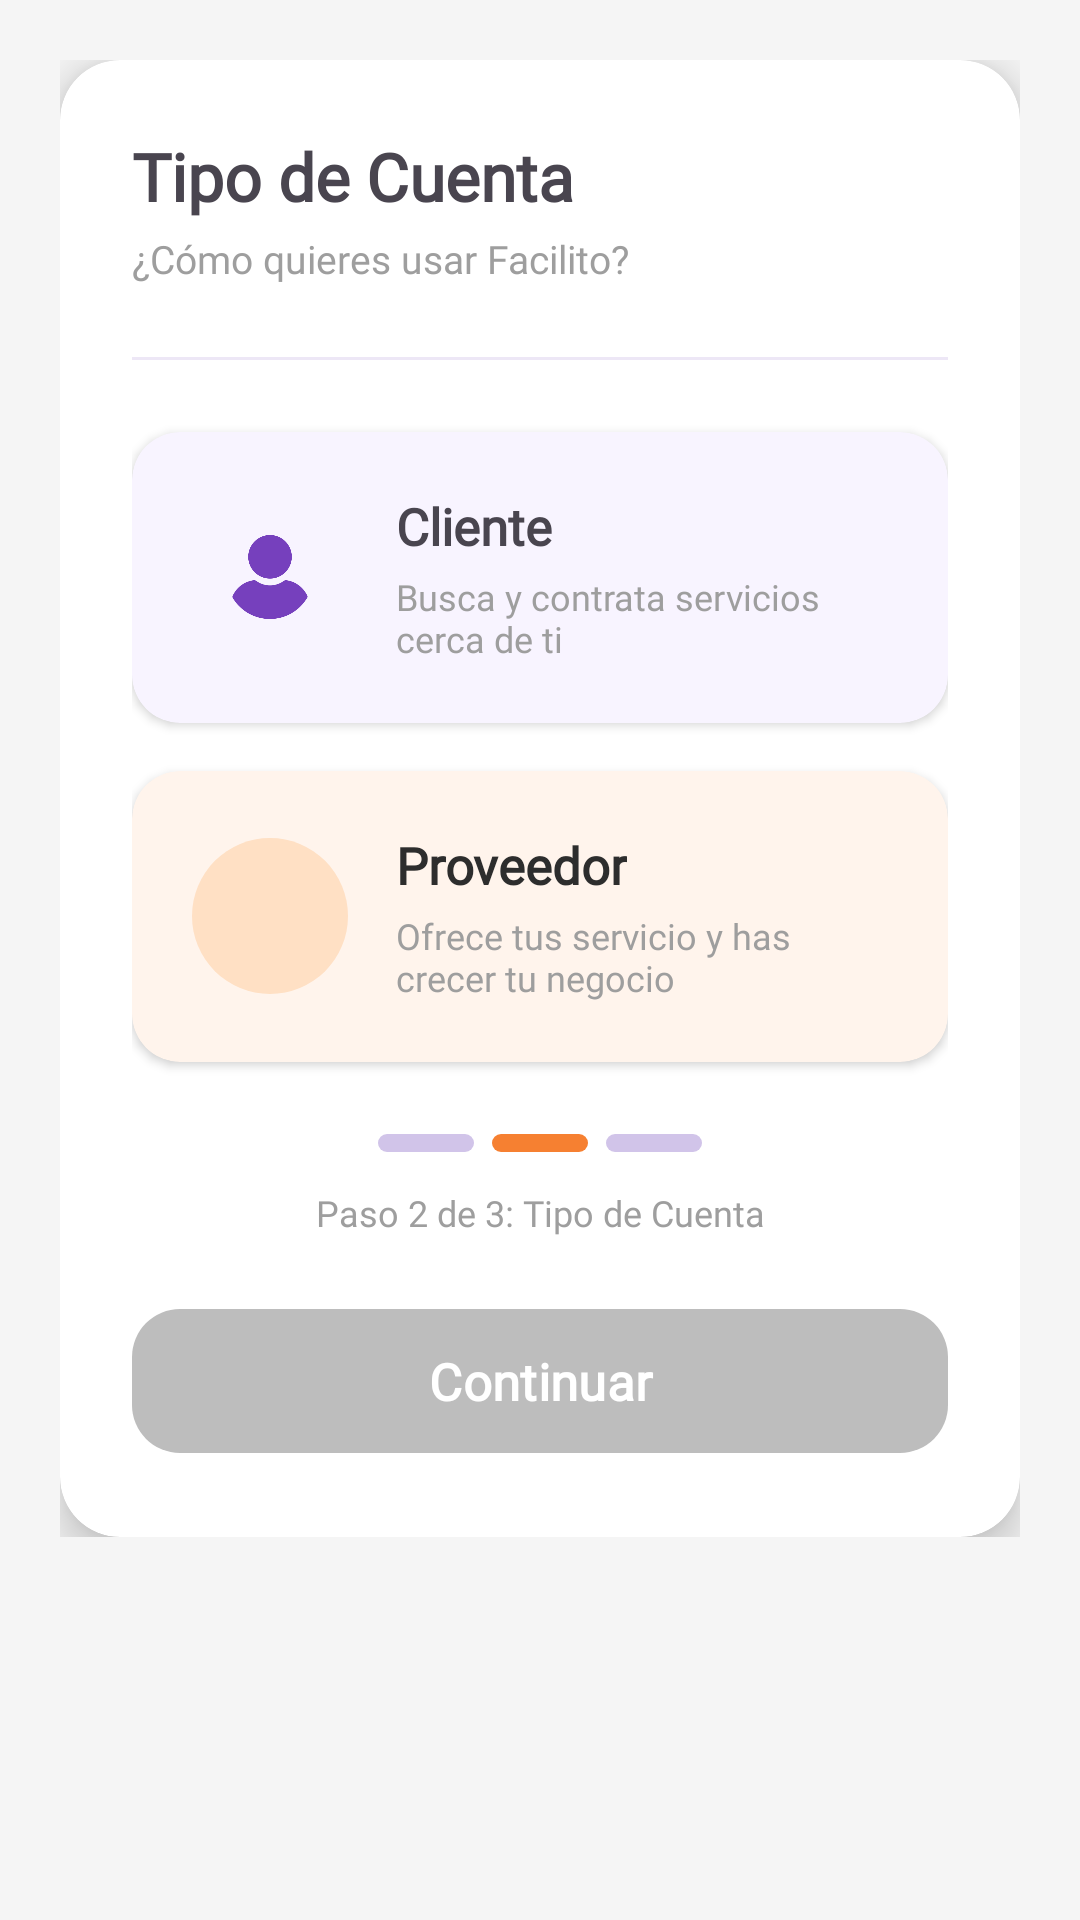

Named icons in this screenshot (1080 x 1920) and their bounding boxes, (x1,y1,x2,y2):
user: (232,535,308,619)
